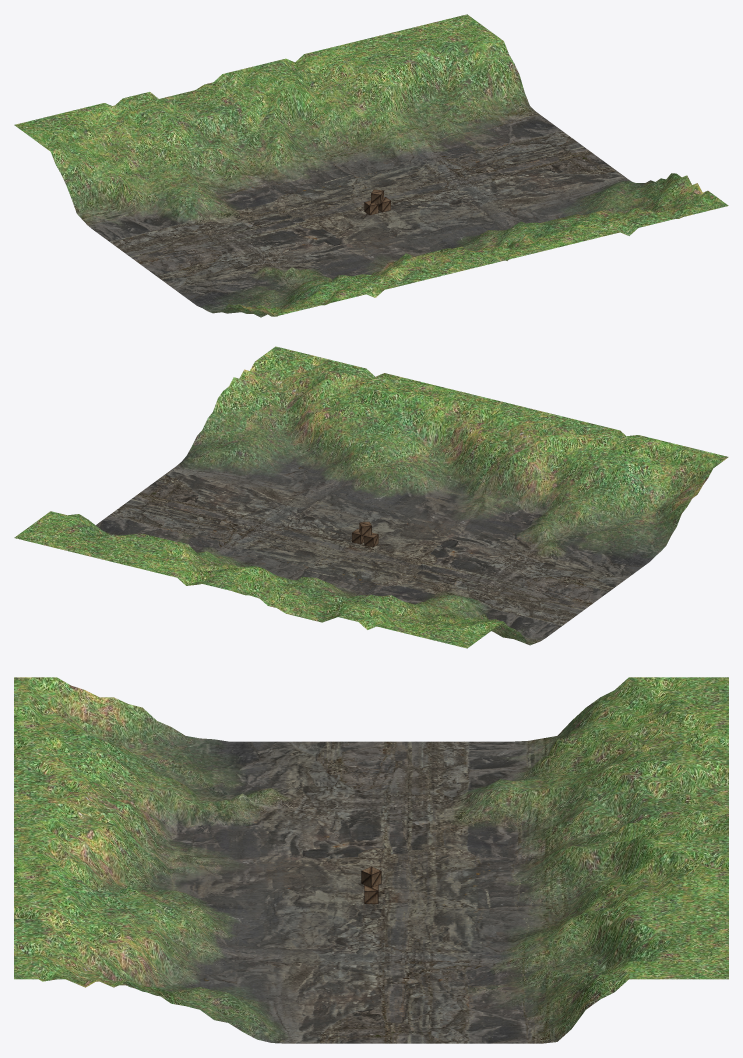
3 views of the same model, one above another, from view 1: azimuth 30°, elevation 25°; view 2: azimuth 150°, elevation 25°; view 3: azimuth 270°, elevation 25° (orthographic). The views are drawn at different scales.
Visible parts, largest first — view 1: Terrain; view 2: Terrain; view 3: Terrain.
Boxes of the visible parts, <box> form: Terrain: <box>14,14,728,317</box>; Terrain: <box>14,346,728,648</box>; Terrain: <box>14,677,728,1043</box>.
Size of the model in its own units: 100 by 9.91 by 100.
2 materials, 2 textured.
